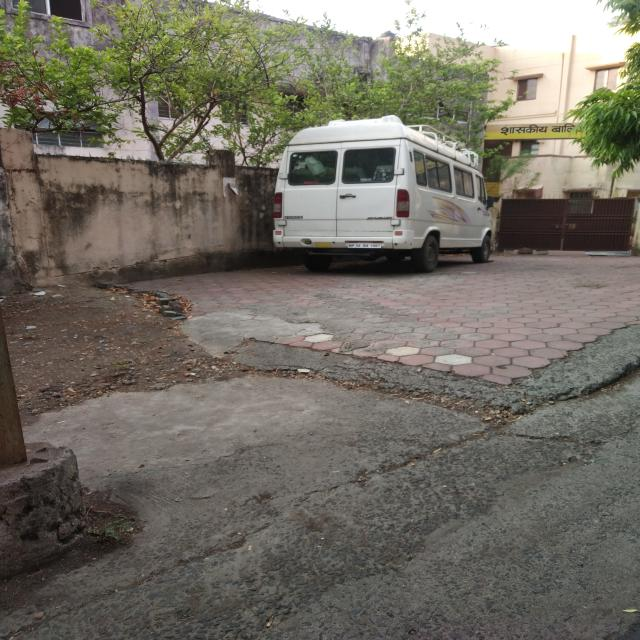Traveller: (273, 115, 493, 272)
